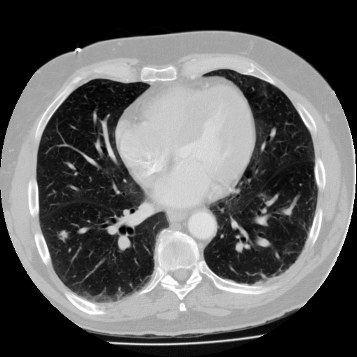nodule: (60, 230, 68, 238)
